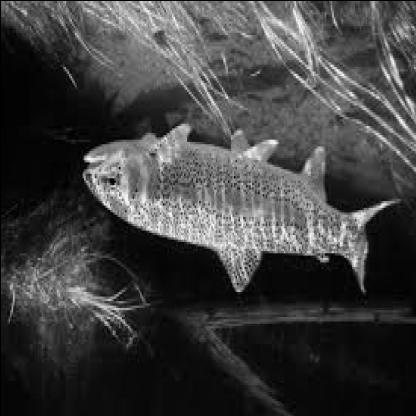fish: (82, 129, 396, 292)
